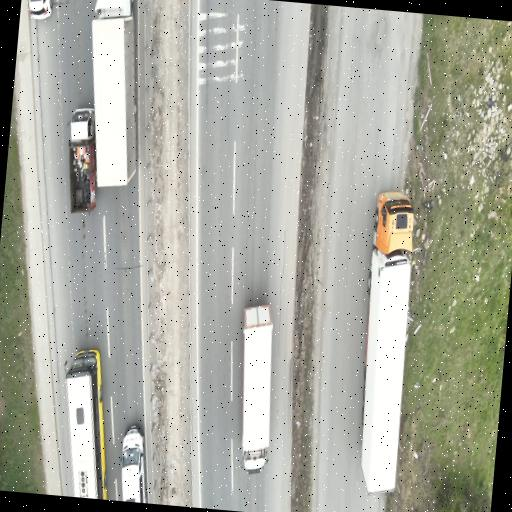bus: (66, 349, 107, 499)
car: (122, 426, 147, 502), (29, 0, 53, 18)
truck: (361, 191, 414, 494), (92, 0, 136, 186), (242, 304, 272, 473), (69, 107, 96, 212)
